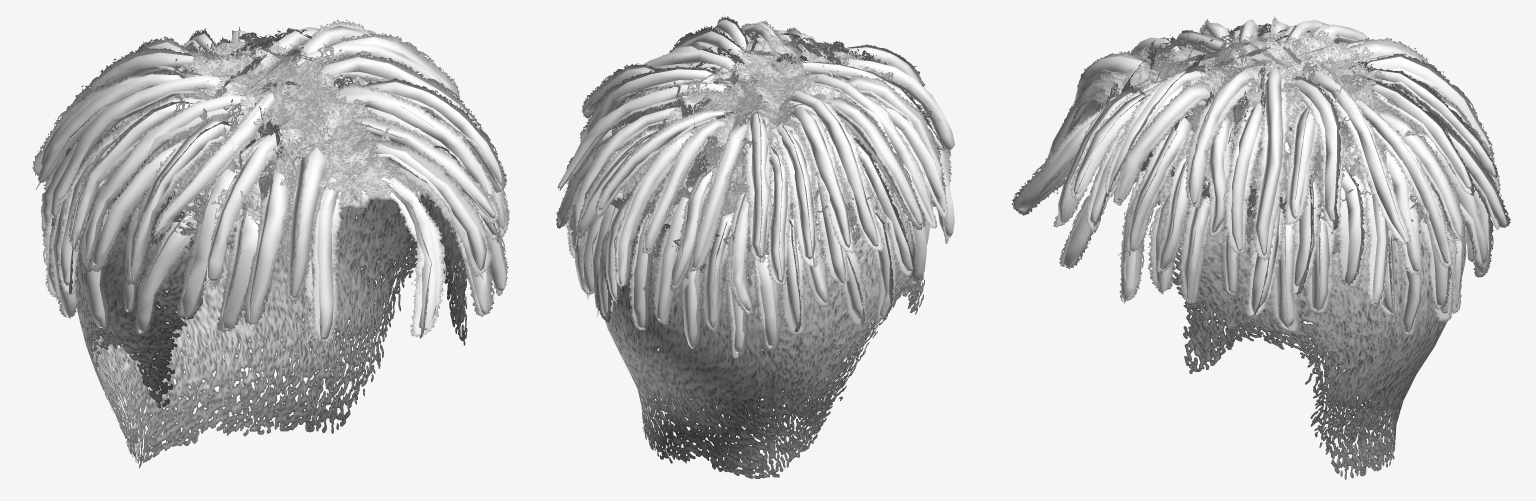
Rendered from hair_110.glb.
3 views of the same model, side by side, from view 1: azimuth 30°, elevation 25°; view 2: azimuth 150°, elevation 25°; view 3: azimuth 270°, elevation 25° (orthographic). The views are drawn at different scales.
Parts seen in each view (by area): view 1: hair_cards, hair_cap; view 2: hair_cards, hair_cap; view 3: hair_cards, hair_cap.
Part boxes in pixels (x1,y1,x2,y2): hair_cards: (32,19,509,344); hair_cap: (75,66,467,468); hair_cards: (556,15,954,358); hair_cap: (605,57,927,478); hair_cards: (1011,16,1510,336); hair_cap: (1096,52,1466,479).
Bounding box in the file's own units: 0.2189 × 0.2193 × 0.2565.
Materials: 2 (2 with a texture image).
